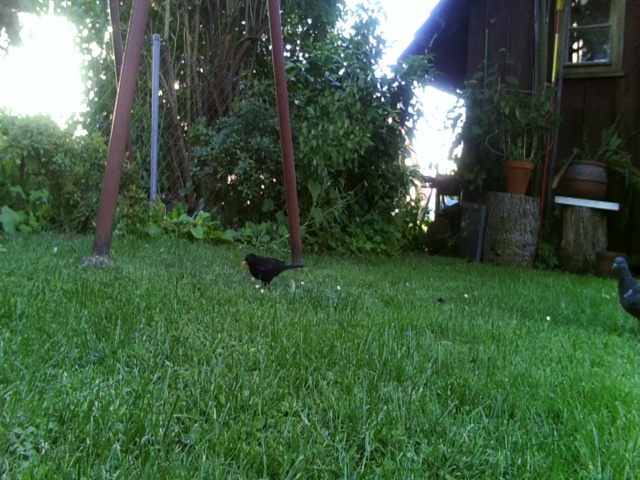Pigeon: (603, 250, 640, 314)
